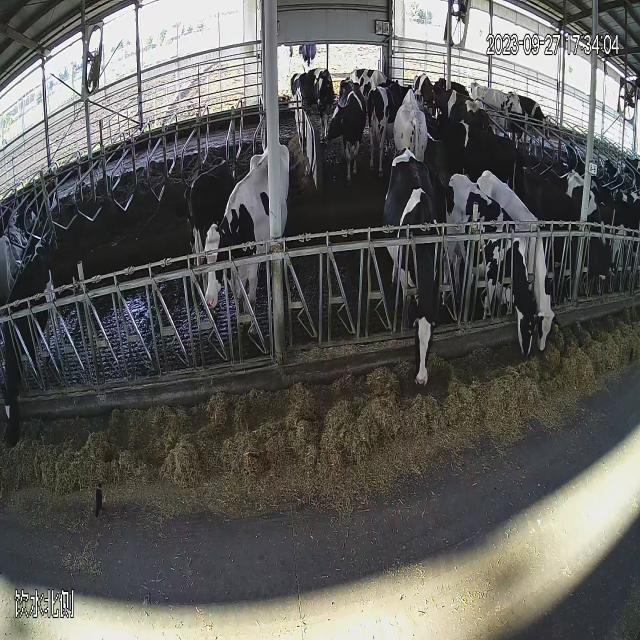feeding: (438, 156, 544, 394), (370, 140, 448, 415), (468, 162, 560, 368), (0, 228, 65, 478)
standing: (192, 124, 298, 343), (564, 162, 621, 310), (319, 64, 372, 204), (290, 61, 340, 150)
